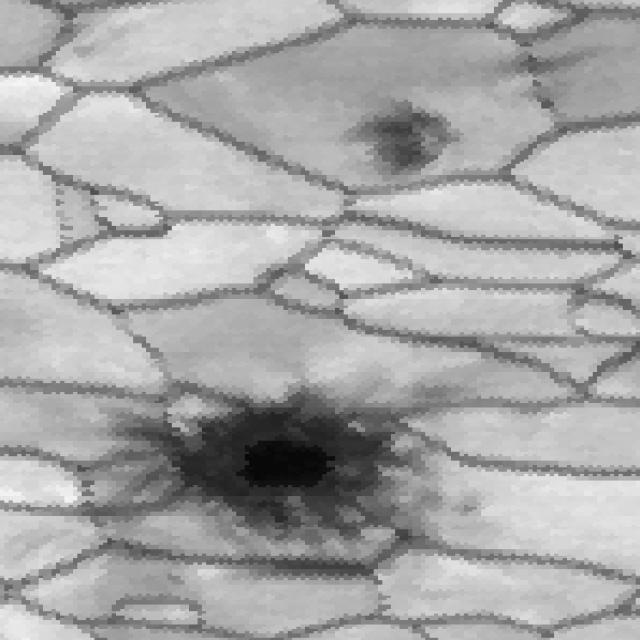good_void: (39, 390, 490, 608), (326, 76, 470, 194), (472, 25, 616, 126)
